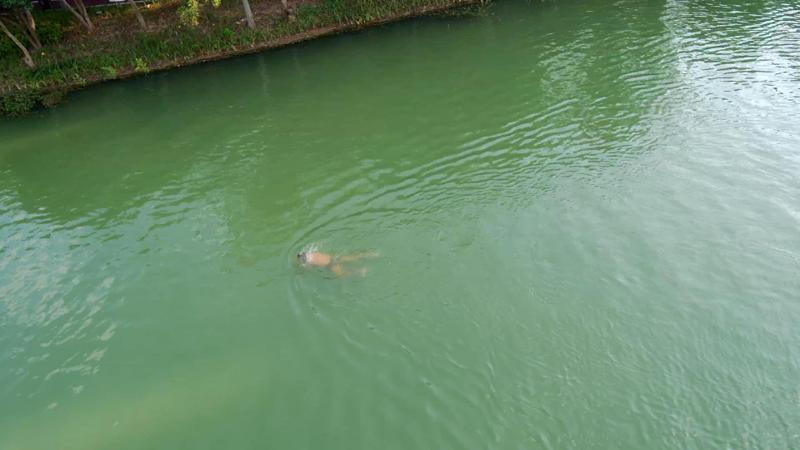swimmers: (293, 247, 383, 284)
